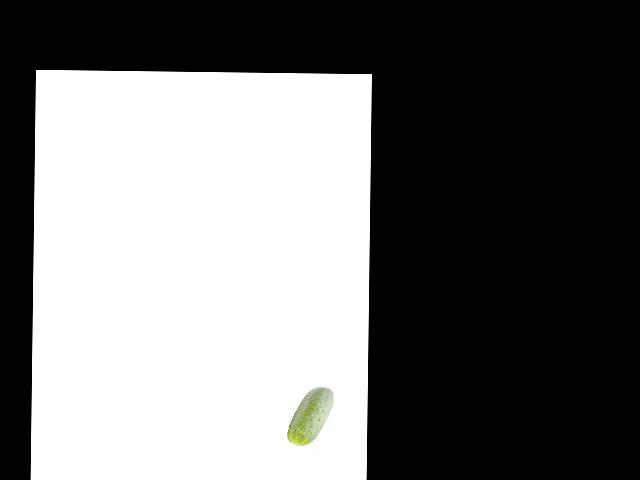cucumber: (287, 386, 334, 446)
